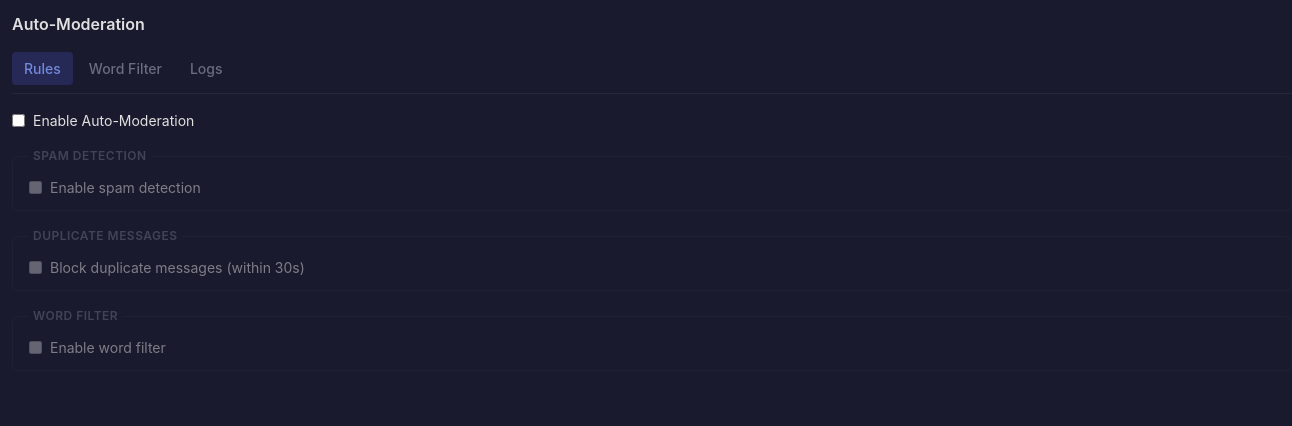
Test: AutomodSettings › shows error when config update fails
Check: the heading "Auto-Moderation" is shown, box [12,14,145,34]
Click the checkbox labelled "Enable Auto-Moderation". click: (18, 120)
box: [12,114,25,127]
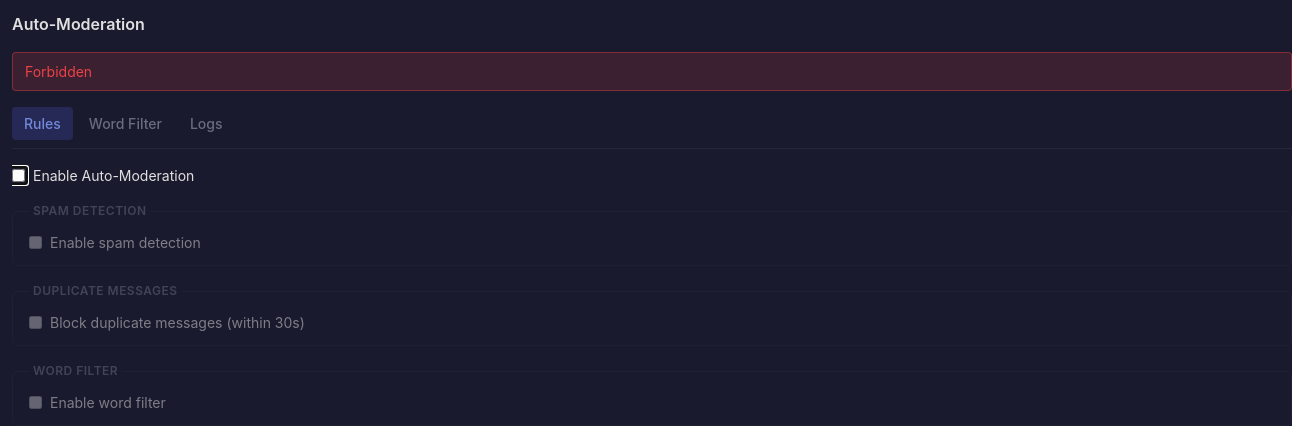
Check: the text "Forbidden" is shown, box [12,52,1291,91]
